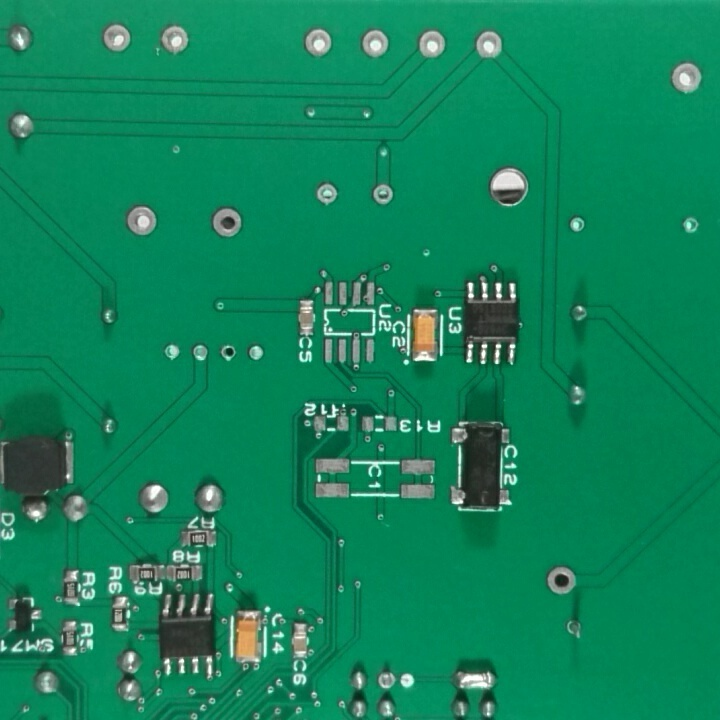F: (670, 57, 704, 99), (209, 203, 245, 241), (299, 24, 334, 62), (124, 203, 159, 241), (415, 26, 451, 62), (100, 21, 135, 58), (470, 26, 506, 60), (356, 27, 390, 63), (544, 563, 578, 598), (158, 23, 191, 58), (315, 180, 341, 209), (561, 616, 586, 644), (371, 181, 396, 206), (245, 341, 270, 365), (681, 211, 701, 240), (374, 668, 398, 692), (219, 338, 239, 365), (564, 215, 586, 236), (189, 343, 210, 364), (163, 342, 181, 363)
P: (448, 663, 499, 695)
